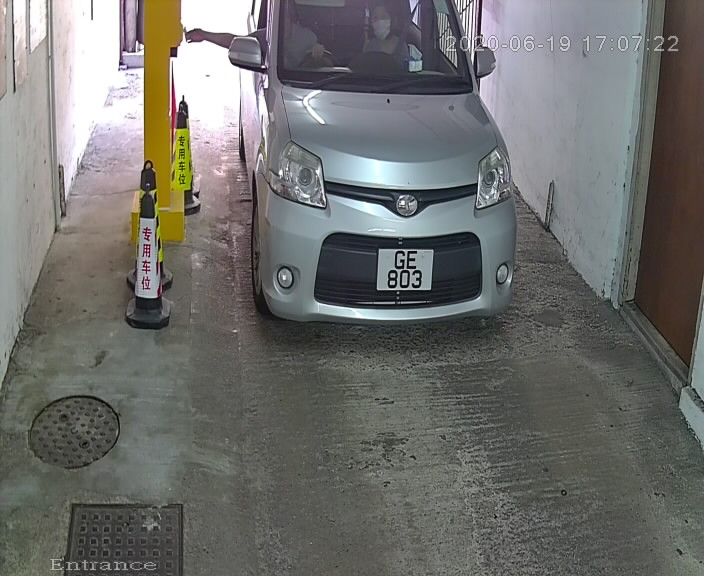privatecar: (215, 3, 534, 337)
